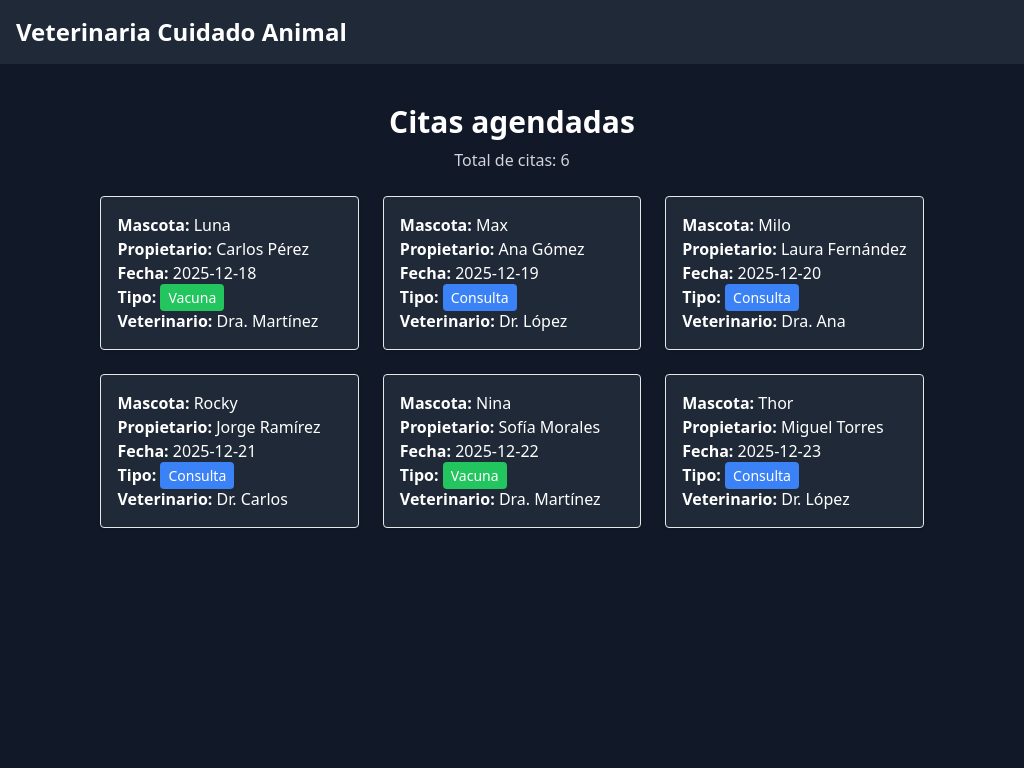
it: Veterinaria App - Pruebas E2E › Permite abrir los detalles de una cita
This screenshot has width=1024, height=768.
Click the 1st element with test id "appointment-card".
click(230, 273)  # box [101,196,359,350]
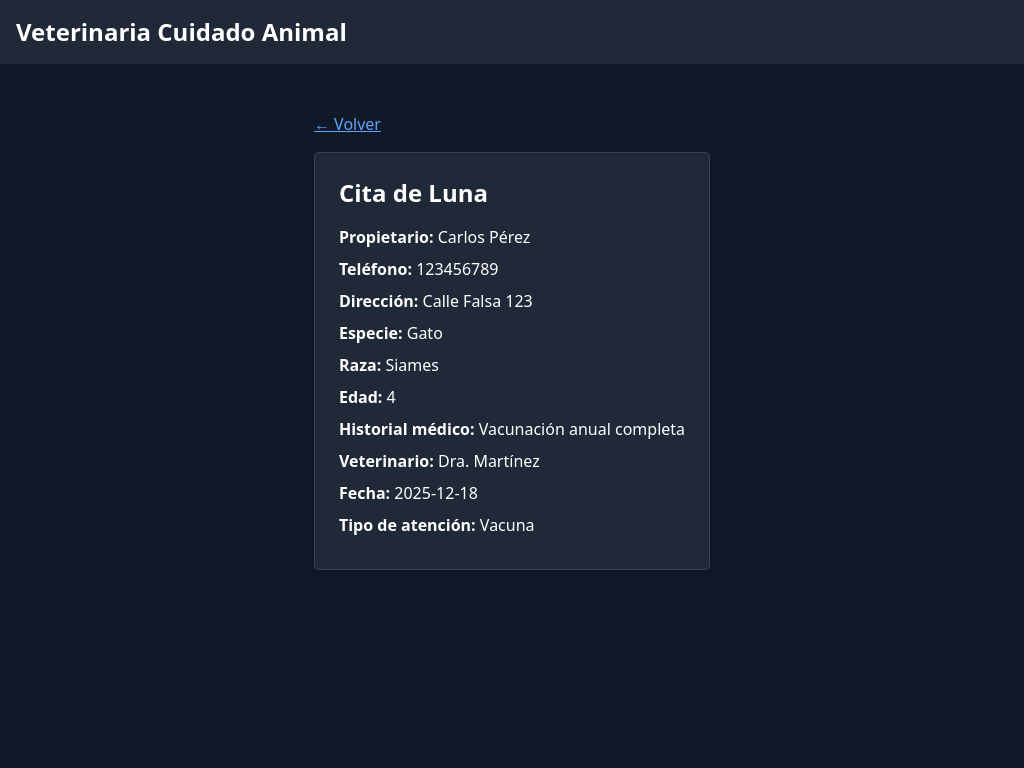
expect the text "Propietario:" is shown: met, box [339,226,434,248]
expect the text "Teléfono:" is shown: met, box [339,258,412,280]
